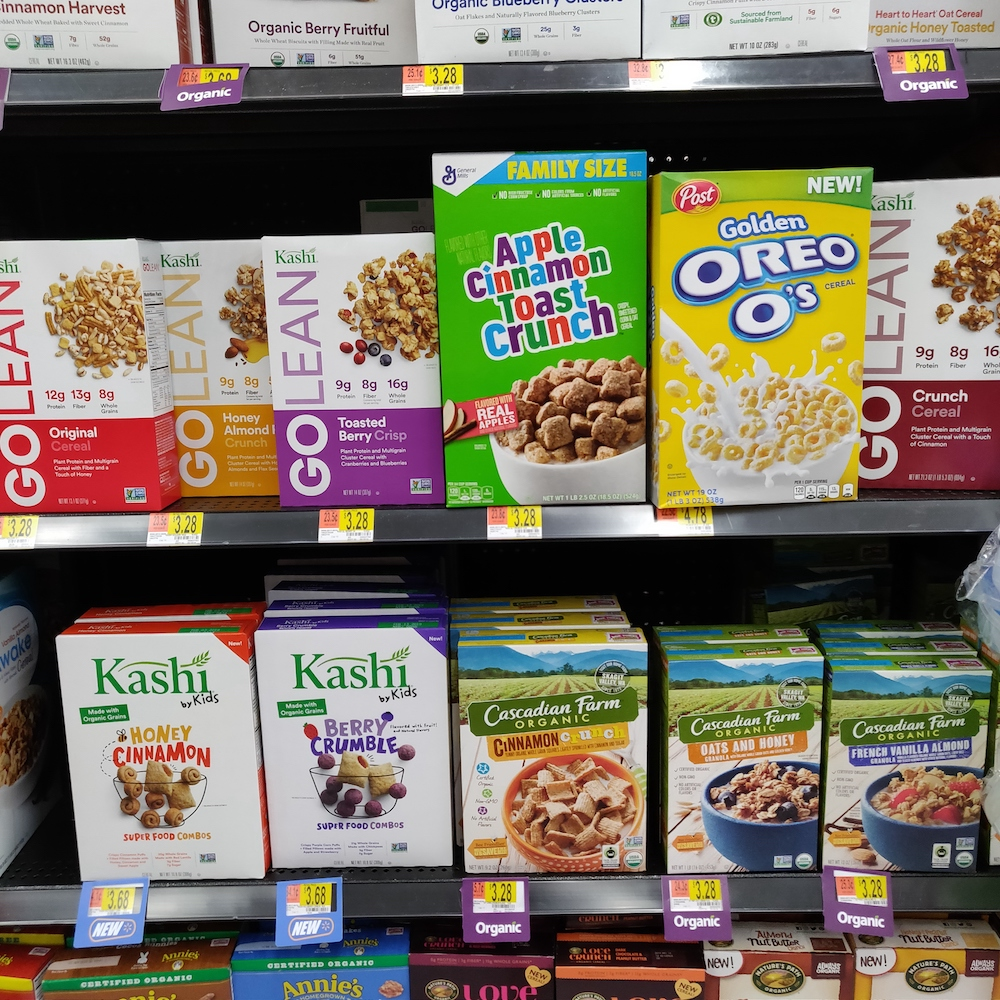Oreo Golden-568301011: (654, 168, 859, 508)
